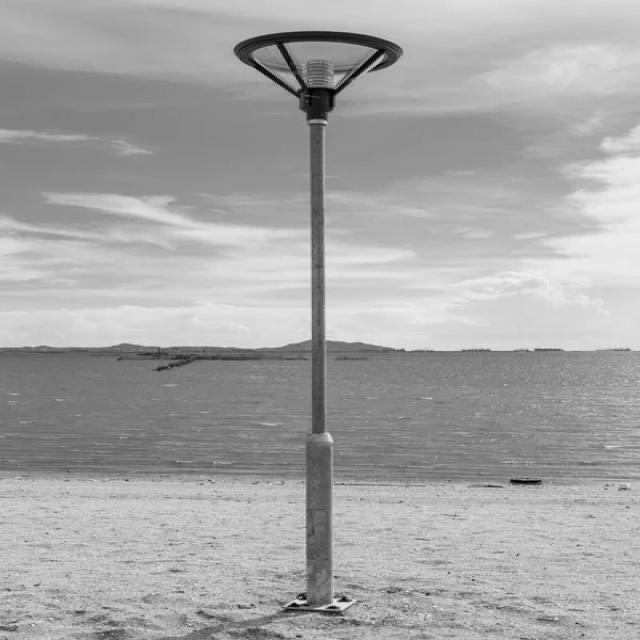Pole: (234, 31, 403, 613)
